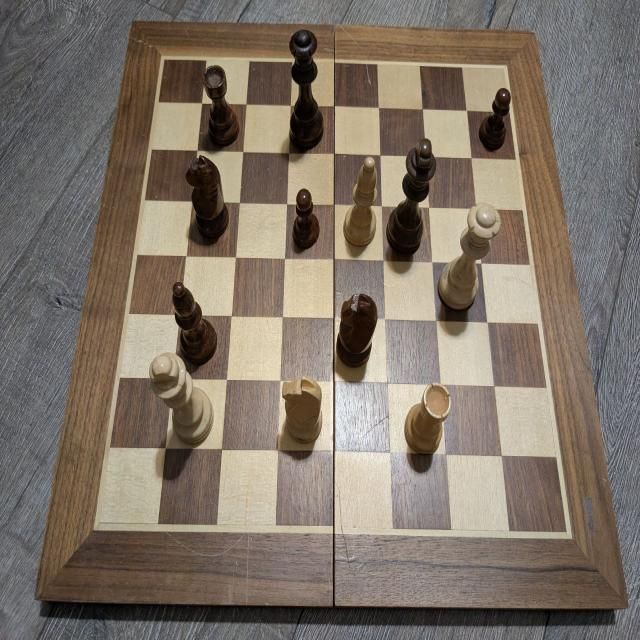black_bishop: (172, 280, 218, 365)
black_king: (385, 139, 436, 254)
black_knight: (184, 155, 230, 242), (336, 293, 377, 368)
black_pawn: (478, 86, 512, 150), (292, 188, 320, 250)
black_queen: (288, 29, 325, 150)
black_rook: (202, 65, 240, 146)
white_bishop: (343, 156, 379, 246)
white_king: (148, 352, 212, 444)
white_knight: (283, 375, 324, 442)
white_queen: (435, 203, 499, 311)
white_rook: (404, 381, 452, 456)
